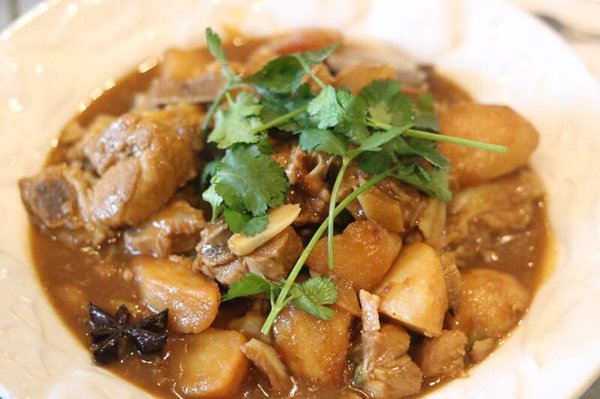pizza: (307, 219, 402, 292)
